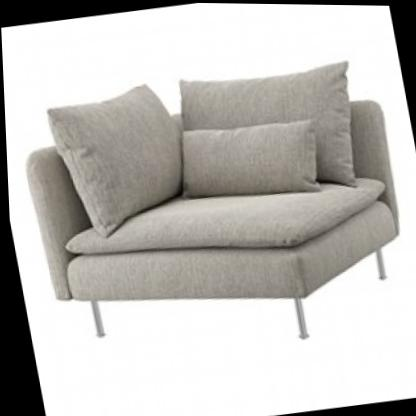Sofa: (1, 25, 416, 389)
